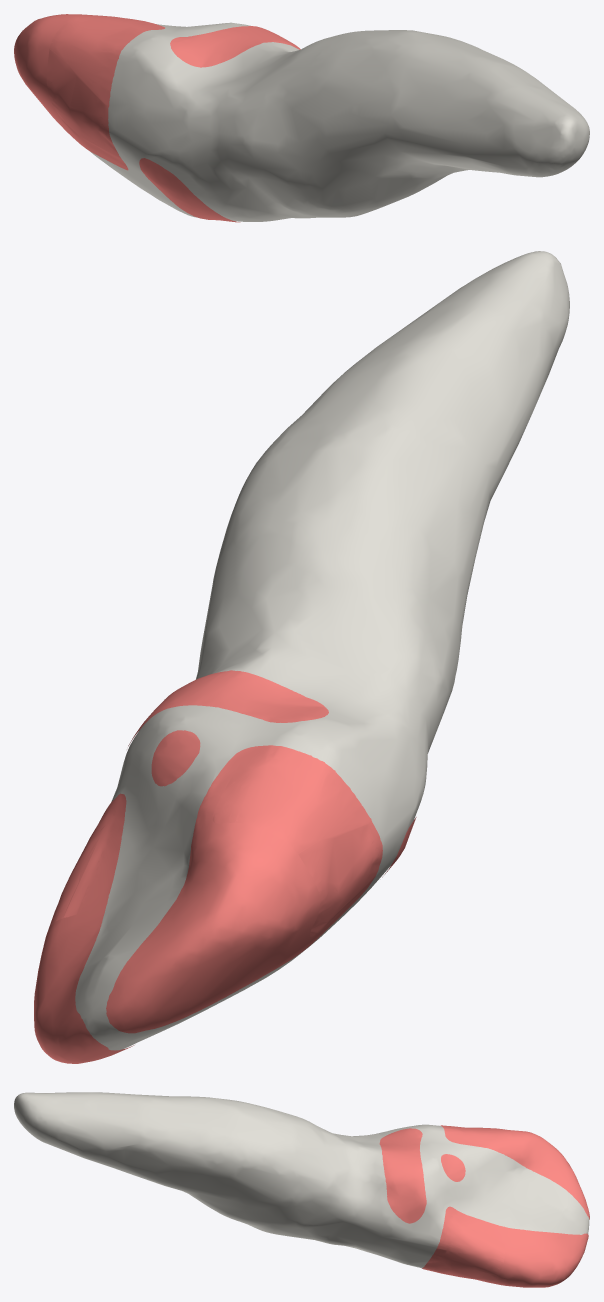
The model's file is tooth_12_FMA55680.glb.
The picture shows the model from 3 angles, top to bottom: view 1: azimuth 30°, elevation 25°; view 2: azimuth 150°, elevation 25°; view 3: azimuth 270°, elevation 25°; orthographic projection. The views are drawn at different scales.
Visible parts, largest first — view 1: tooth_12, class4_distal, class3_distal, class5_lingual, class5_facial; view 2: tooth_12, class4_distal, class3_distal, class4_mesial, class5_lingual, class3_mesial, class1_lingual_pit; view 3: tooth_12, class4_mesial, class5_lingual, class4_distal, class3_mesial, class3_distal, class1_lingual_pit.
Part boxes in pixels (box(x1,y1,x2,y2)): tooth_12: box(90, 22, 589, 221); class4_distal: box(14, 14, 164, 170); class3_distal: box(46, 14, 153, 160); class5_lingual: box(170, 26, 300, 67); class5_facial: box(139, 158, 240, 222); tooth_12: box(75, 251, 569, 1050); class4_distal: box(106, 745, 382, 1033); class3_distal: box(212, 750, 378, 936); class4_mesial: box(34, 793, 134, 1063); class5_lingual: box(128, 670, 328, 746); class3_mesial: box(48, 809, 116, 929); class1_lingual_pit: box(151, 730, 200, 786); tooth_12: box(14, 1092, 589, 1268); class4_mesial: box(422, 1206, 588, 1287); class5_lingual: box(379, 1128, 426, 1223); class4_distal: box(440, 1125, 589, 1219); class3_mesial: box(426, 1215, 505, 1282); class3_distal: box(445, 1125, 512, 1143); class1_lingual_pit: box(441, 1154, 465, 1181).
Bounding box in the file's own units: 9.14 × 10.75 × 27.33.
